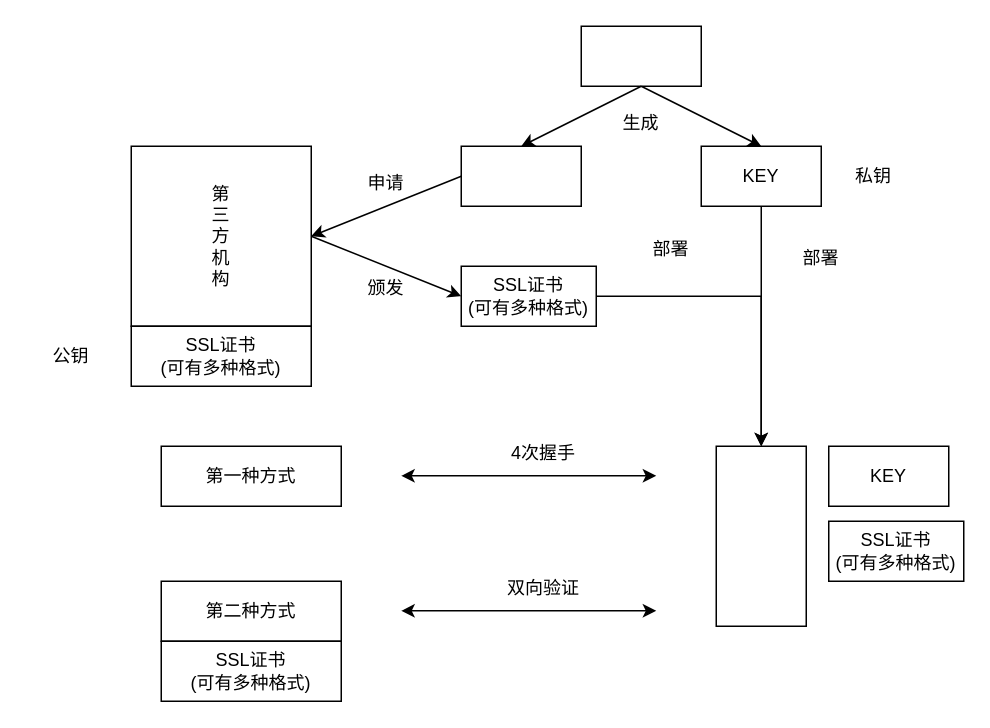
The diagram is 990 pixels wide and 728 high, and some of its shapes have lost their labels. Each missing label, with the box of its shape:
CSR: (460, 145, 581, 206)
开始: (580, 25, 701, 86)
服务器: (715, 445, 806, 626)
